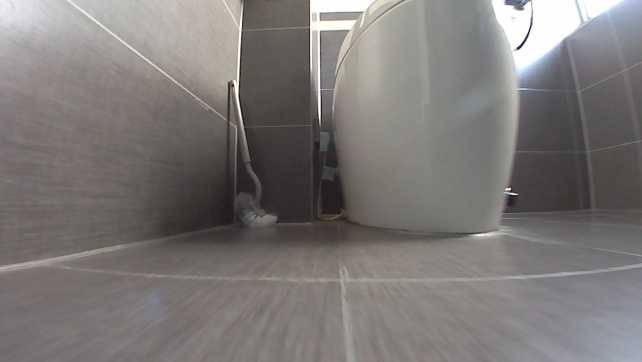toilet: (327, 0, 526, 239)
